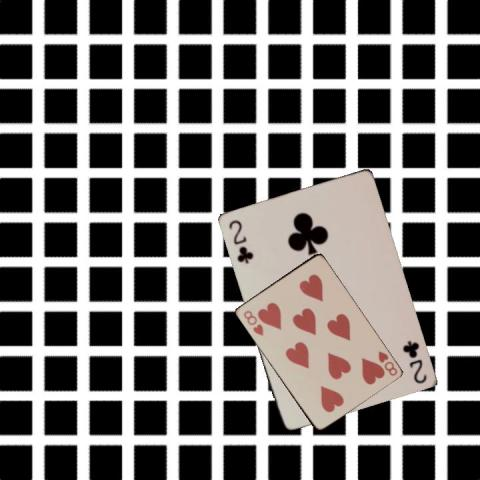2c: (225, 217, 255, 265), (399, 337, 428, 385)
8h: (240, 308, 265, 338), (374, 348, 398, 378)
